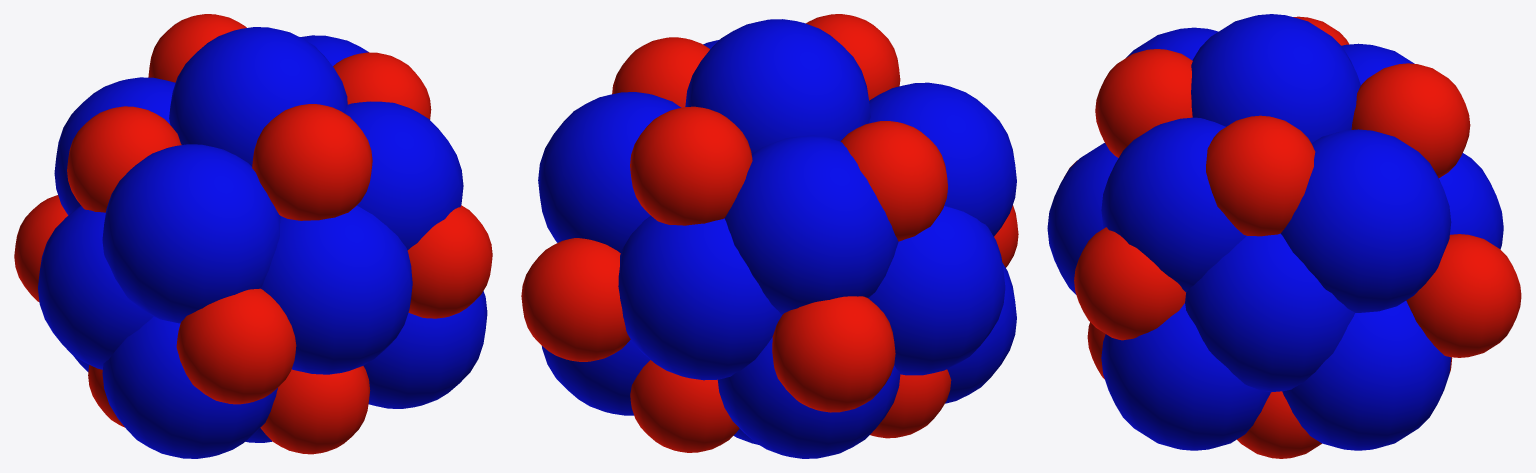
Rendered from nucleus.fbx.
3 views of the same model, side by side, from view 1: azimuth 30°, elevation 25°; view 2: azimuth 150°, elevation 25°; view 3: azimuth 270°, elevation 25° (orthographic). The views are drawn at different scales.
Parts seen in each view (by area): view 1: nucleus; view 2: nucleus; view 3: nucleus.
Part boxes in pixels (left/top/right/bottom): nucleus: left=14, top=14, right=492, bottom=458; nucleus: left=521, top=14, right=1018, bottom=458; nucleus: left=1047, top=14, right=1521, bottom=458.
Bounding box in the file's own units: 130 × 123 × 130.
